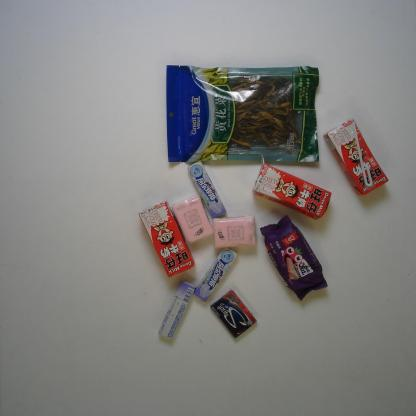Candy: (157, 279, 197, 341), (194, 247, 238, 303), (188, 160, 227, 218)
Dessert: (259, 213, 329, 301)
Dried Food: (165, 61, 324, 164)
Gum: (210, 288, 258, 340)
Milk: (250, 154, 332, 221), (322, 117, 390, 197), (137, 200, 196, 278)
Tissue: (171, 194, 214, 246), (212, 214, 258, 250)
